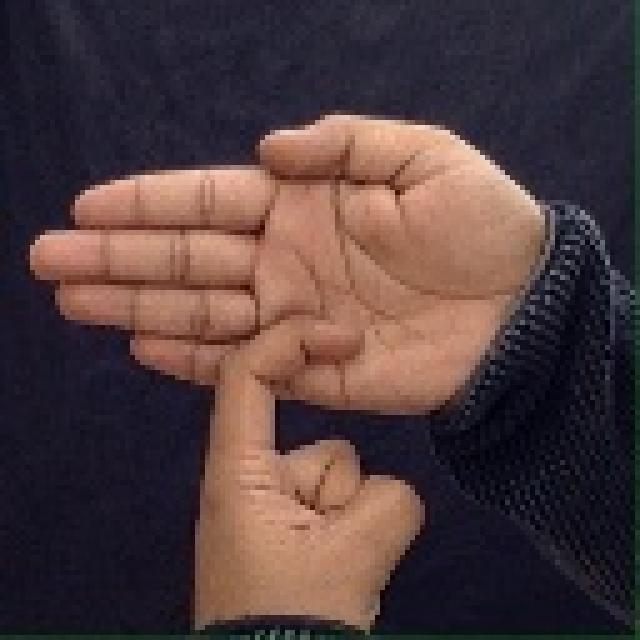R: (6, 64, 572, 628)
